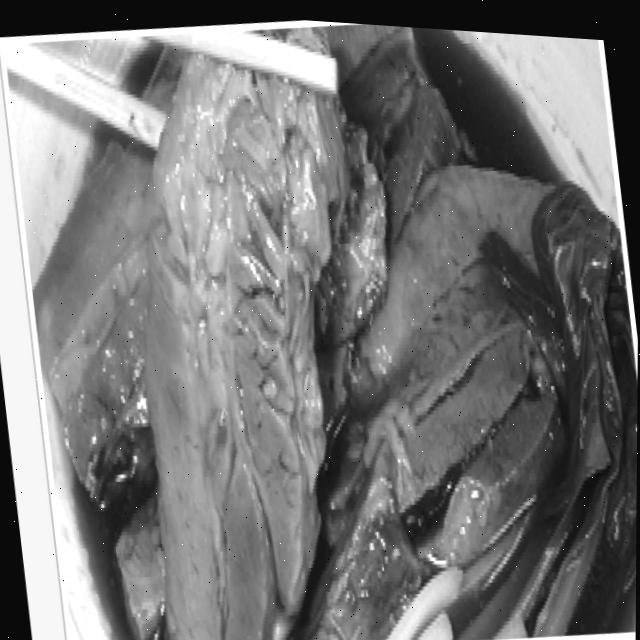猪肉菜式: (6, 1, 640, 640)
